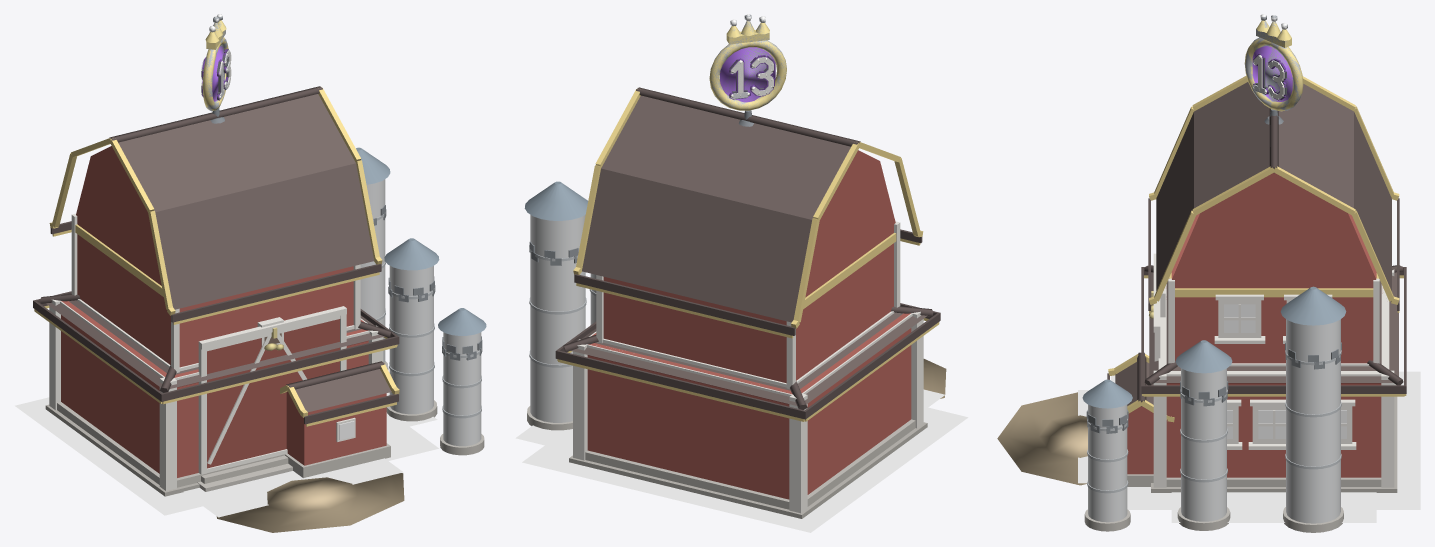
The model's file is barn_13.glb.
3 views of the same model, side by side, from view 1: azimuth 30°, elevation 25°; view 2: azimuth 150°, elevation 25°; view 3: azimuth 270°, elevation 25° (orthographic). The views are drawn at different scales.
Parts seen in each view (by area): view 1: body2, barn_13, spin_60_0, body; view 2: body2, barn_13, spin_60_0, body; view 3: body2, barn_13, spin_60_0, body.
Boxes of the visible parts, x1=… form: body2: x1=33, y1=86, x2=486, y2=532; barn_13: x1=15, y1=392, x2=438, y2=517; spin_60_0: x1=201, y1=14, x2=231, y2=110; body: x1=201, y1=16, x2=230, y2=111; body2: x1=524, y1=87, x2=946, y2=518; barn_13: x1=515, y1=389, x2=968, y2=532; spin_60_0: x1=709, y1=14, x2=786, y2=110; body: x1=710, y1=14, x2=786, y2=108; body2: x1=997, y1=76, x2=1406, y2=532; barn_13: x1=1078, y1=371, x2=1420, y2=522; spin_60_0: x1=1244, y1=14, x2=1303, y2=111; body: x1=1245, y1=15, x2=1301, y2=110.
Size of the model in its own units: 3.42 by 4.22 by 3.8.
